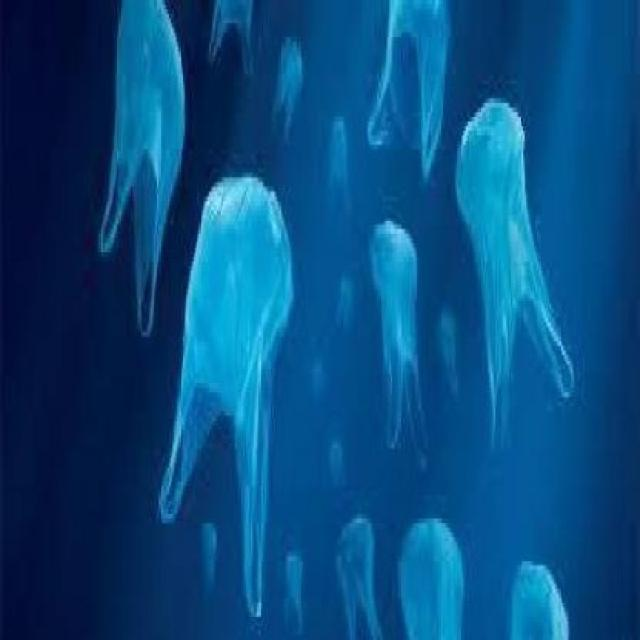pbag: (153, 173, 295, 622), (453, 93, 576, 458), (98, 5, 187, 337), (368, 215, 429, 476)
